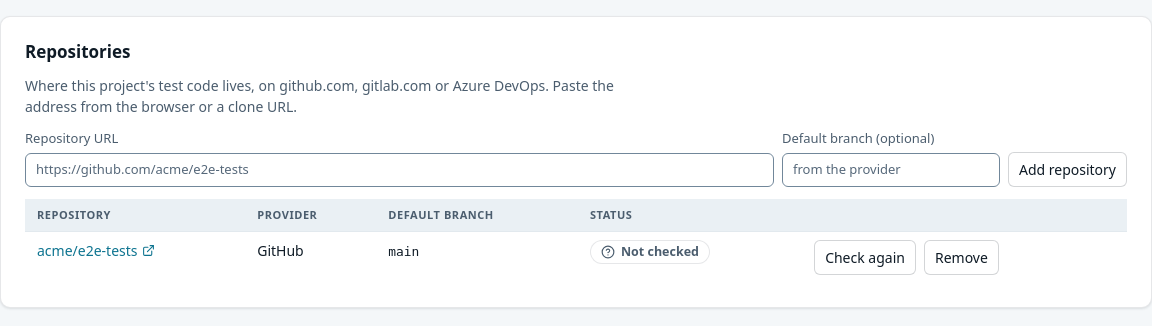
Test: checking again asks the provider and shows the new status
This screenshot has width=1152, height=326.
Expected: the text "Not checked" is shown, left=590, top=240, right=710, bottom=264
Step 1. Click the button with aria-label "check acme/e2e-tests again" → coordinates (865, 257), box left=814, top=240, right=916, bottom=275
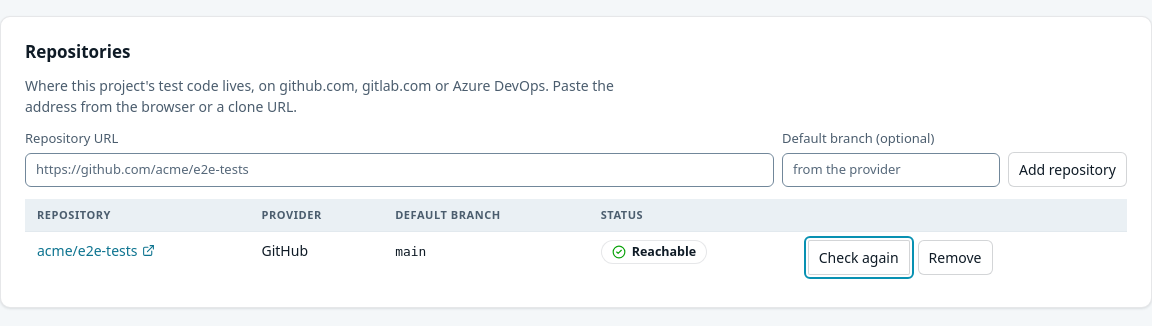
Now the text "Reachable" is shown, box left=601, top=240, right=707, bottom=264
